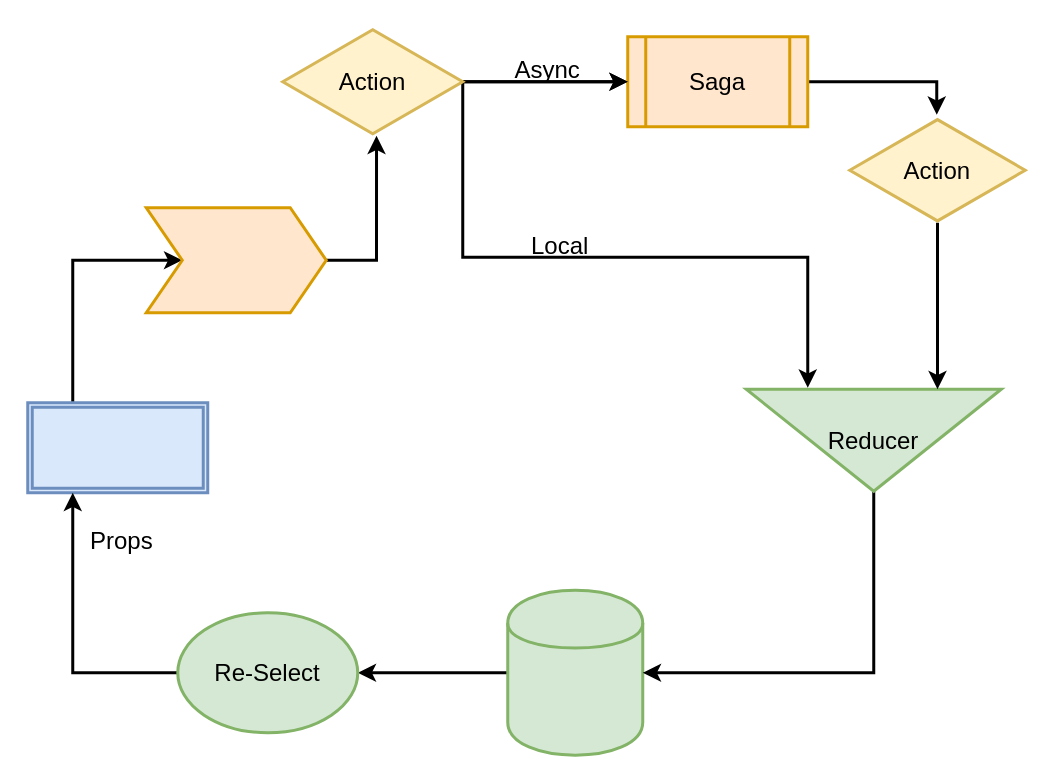
This 1052x782 diagram has some shape labels left out. Here are the shapes that lost their labels. From the top down, the centre of each, then its label:
point (235, 260): Dispatch
point (117, 447): Component
point (575, 672): Store Immutable
